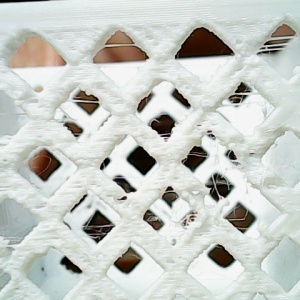3dpstringing: (52, 93, 103, 126), (218, 89, 274, 119), (254, 32, 299, 60), (207, 173, 238, 202), (71, 221, 114, 241), (225, 207, 254, 236), (92, 61, 146, 75), (93, 39, 145, 53), (146, 119, 179, 141), (19, 153, 56, 172), (1, 235, 28, 259), (180, 206, 205, 226), (253, 169, 277, 188), (181, 150, 212, 164), (222, 151, 247, 168), (111, 172, 150, 181), (143, 213, 163, 229), (207, 241, 236, 252), (95, 157, 109, 177), (160, 185, 179, 197), (10, 109, 31, 118), (130, 251, 145, 263), (193, 230, 213, 238), (271, 139, 279, 153)
3dpunderextrusion: (187, 184, 229, 212), (17, 84, 46, 113), (194, 117, 228, 134)
